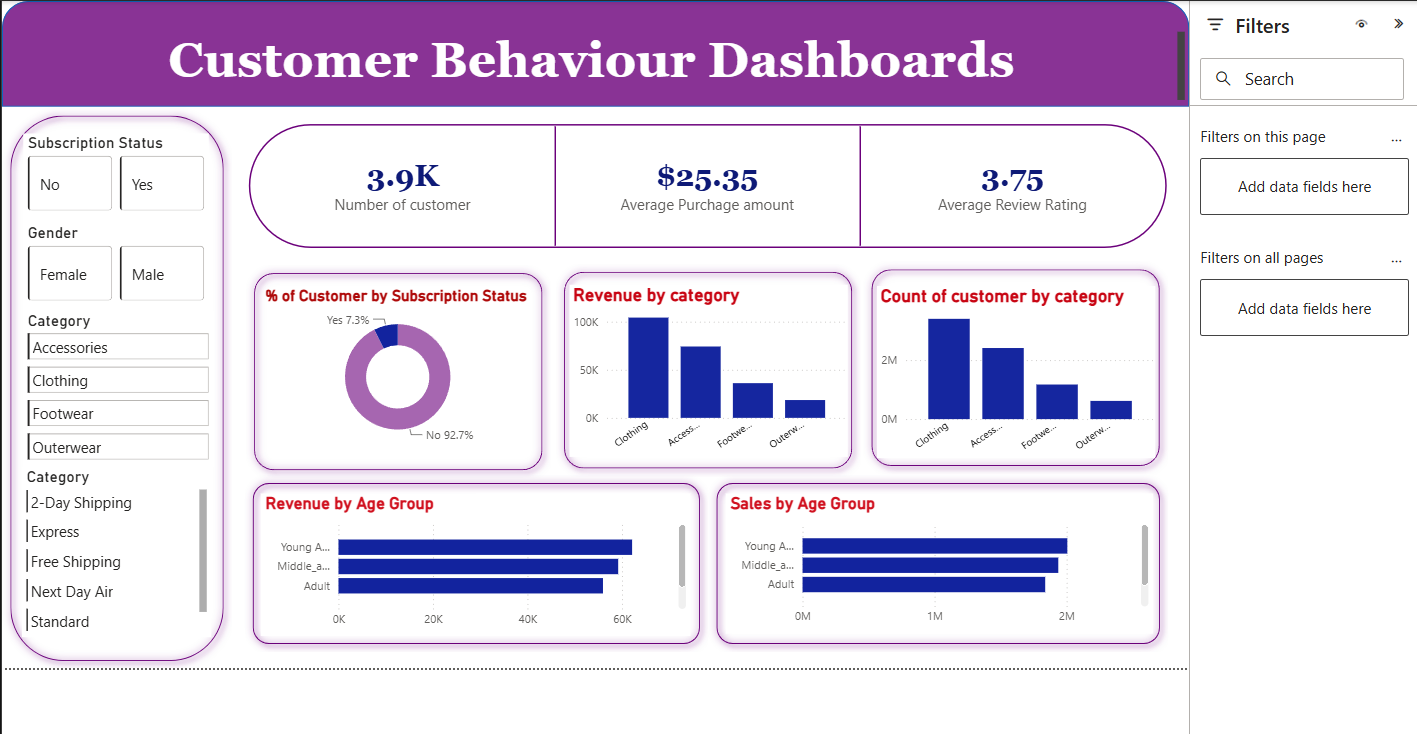

This screenshot's page, from the dashboard's own definition file:
{"tool":"powerbi","page":{"name":"Page 1","canvas":[1280,720],"ordinal":0},"visuals":[{"type":"shape","box":[261.4,511.1,500,191.4],"z":0},{"type":"shape","box":[761.4,510.8,495.9,191.4],"z":1000},{"type":"cardVisual","fields":{"Data":["public customer.Number of customer","public customer.Average purchage amount","public customer.Average Review Rating"]},"box":[248.7,116.5,1025.7,167.1],"z":2000},{"type":"shape","box":[0,0,1280,114],"z":3000},{"type":"textbox","box":[0,28,1280,86],"z":4000},{"type":"donutChart","title":"% of Customer by Subscription Status","fields":{"Category":["public customer.subscription_status"],"Y":["Sum(public customer.customer_id)"]},"box":[278.7,307.3,295.7,177.1],"z":5000},{"type":"shape","box":[262.8,284.4,328.8,230.4],"z":6000},{"type":"shape","box":[928.7,280.7,328.6,230],"z":7000},{"type":"shape","box":[597.3,283.6,328.6,230],"z":8000},{"type":"clusteredColumnChart","title":"Revenue by category","fields":{"Y":["Sum(public customer.purchase_amount)"],"Category":["public customer.category"]},"box":[611.6,306.5,300,185.7],"z":9000},{"type":"clusteredColumnChart","title":"Count of customer by  category","fields":{"Category":["public customer.category"],"Y":["Sum(public customer.customer_id)"]},"box":[943,307.9,300,185.7],"z":10000},{"type":"shape","box":[0,114,248,606],"z":11000},{"type":"advancedSlicerVisual","title":"Subscription Status","fields":{"Values":["public customer.subscription_status"]},"box":[23.3,143.3,200,88.3],"z":12000},{"type":"advancedSlicerVisual","title":"Gender","fields":{"Values":["public customer.gender"]},"box":[23.3,240,200,88.3],"z":13000},{"type":"advancedSlicerVisual","title":"Category","fields":{"Values":["public customer.category"]},"box":[23.3,334.2,205.8,168.3],"z":14000},{"type":"advancedSlicerVisual","title":"Category","fields":{"Values":["public customer.shipping_type"]},"box":[21.7,503.3,204.2,183.3],"z":15000},{"type":"clusteredBarChart","title":"Revenue by Age Group","fields":{"Y":["Sum(public customer.purchase_amount)"],"Category":["public customer.age_group"]},"box":[279,531,463.6,153.6],"z":16000},{"type":"clusteredBarChart","title":"Sales by Age Group","fields":{"Y":["Sum(public customer.customer_id)"],"Category":["public customer.age_group"]},"box":[780.3,531,460.9,150.9],"z":17000}]}

Visuals, with their boxes on the page's 1280x720 design canvas (x1, y1, x2, y2). These are canvas units, not pixel positions in the 1417x734 screenshot, which may show the page scaled, cropped or inside an application window:
shape: 261:511:761:702
shape: 761:511:1257:702
cardVisual - public customer.Number of customer x public customer.Average purchage amount: 249:116:1274:284
shape: 0:0:1280:114
textbox: 0:28:1280:114
"% of Customer by Subscription Status" donutChart: 279:307:574:484
shape: 263:284:592:515
shape: 929:281:1257:511
shape: 597:284:926:514
"Revenue by category" clusteredColumnChart: 612:306:912:492
"Count of customer by  category" clusteredColumnChart: 943:308:1243:494
shape: 0:114:248:720
"Subscription Status" advancedSlicerVisual: 23:143:223:232
"Gender" advancedSlicerVisual: 23:240:223:328
"Category" advancedSlicerVisual: 23:334:229:502
"Category" advancedSlicerVisual: 22:503:226:687
"Revenue by Age Group" clusteredBarChart: 279:531:743:685
"Sales by Age Group" clusteredBarChart: 780:531:1241:682
